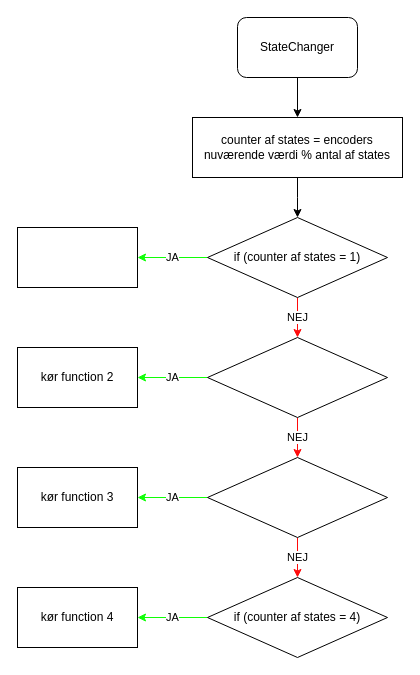
This 420x675 diagram has some shape labels left out. Here are the shapes that lost their labels. From the top down, the box of each, then its label:
(16, 226, 138, 288): kør function 1
(206, 336, 388, 418): if (counter af states = 2)
(206, 456, 388, 538): if (counter af states = 3)
